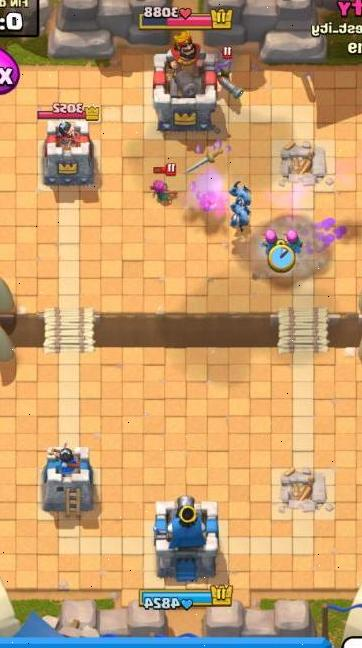enemy_archers: (144, 165, 179, 202)
enemy_musketeer: (210, 48, 246, 101)
player_archers: (283, 223, 306, 255), (258, 222, 280, 254)
player_minions: (226, 179, 256, 209), (227, 197, 254, 229)
